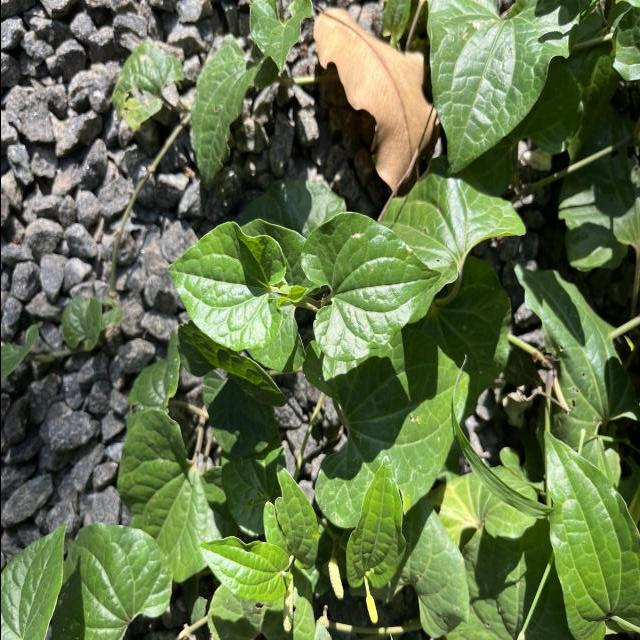Piper longum: (298, 209, 444, 364), (164, 219, 288, 354)
